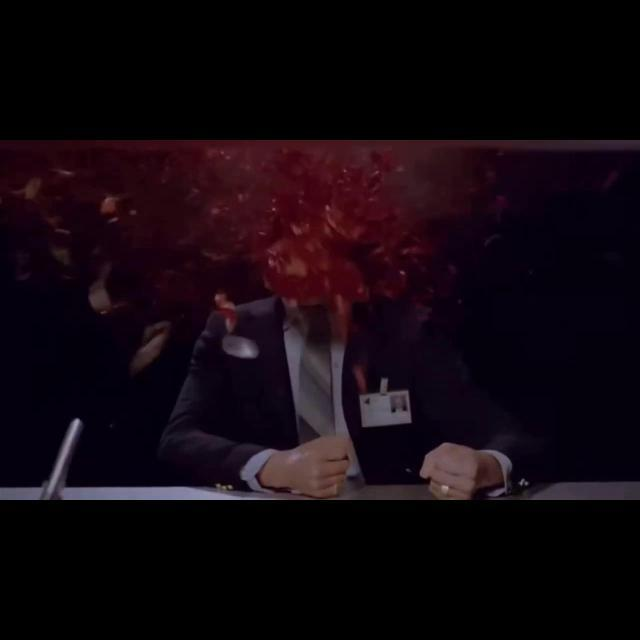blood: (0, 140, 482, 354), (124, 321, 174, 380), (353, 366, 371, 396), (600, 168, 619, 193), (496, 197, 509, 218), (485, 170, 501, 186)
